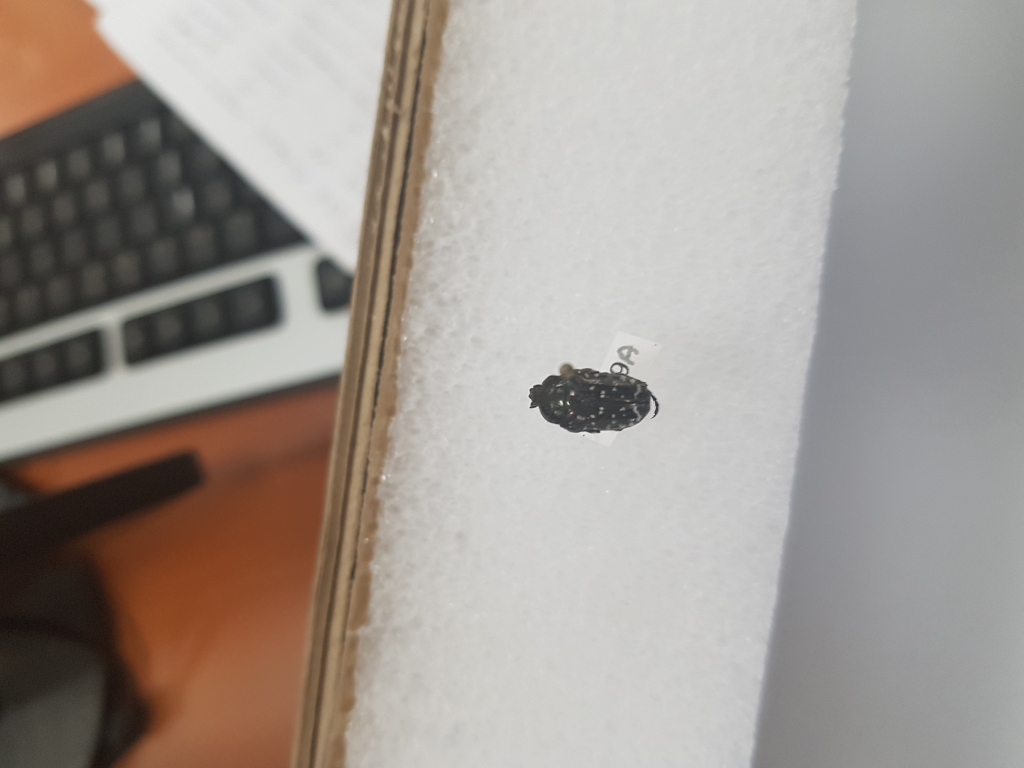Oxythyrea_funesta: (525, 358, 662, 445)
